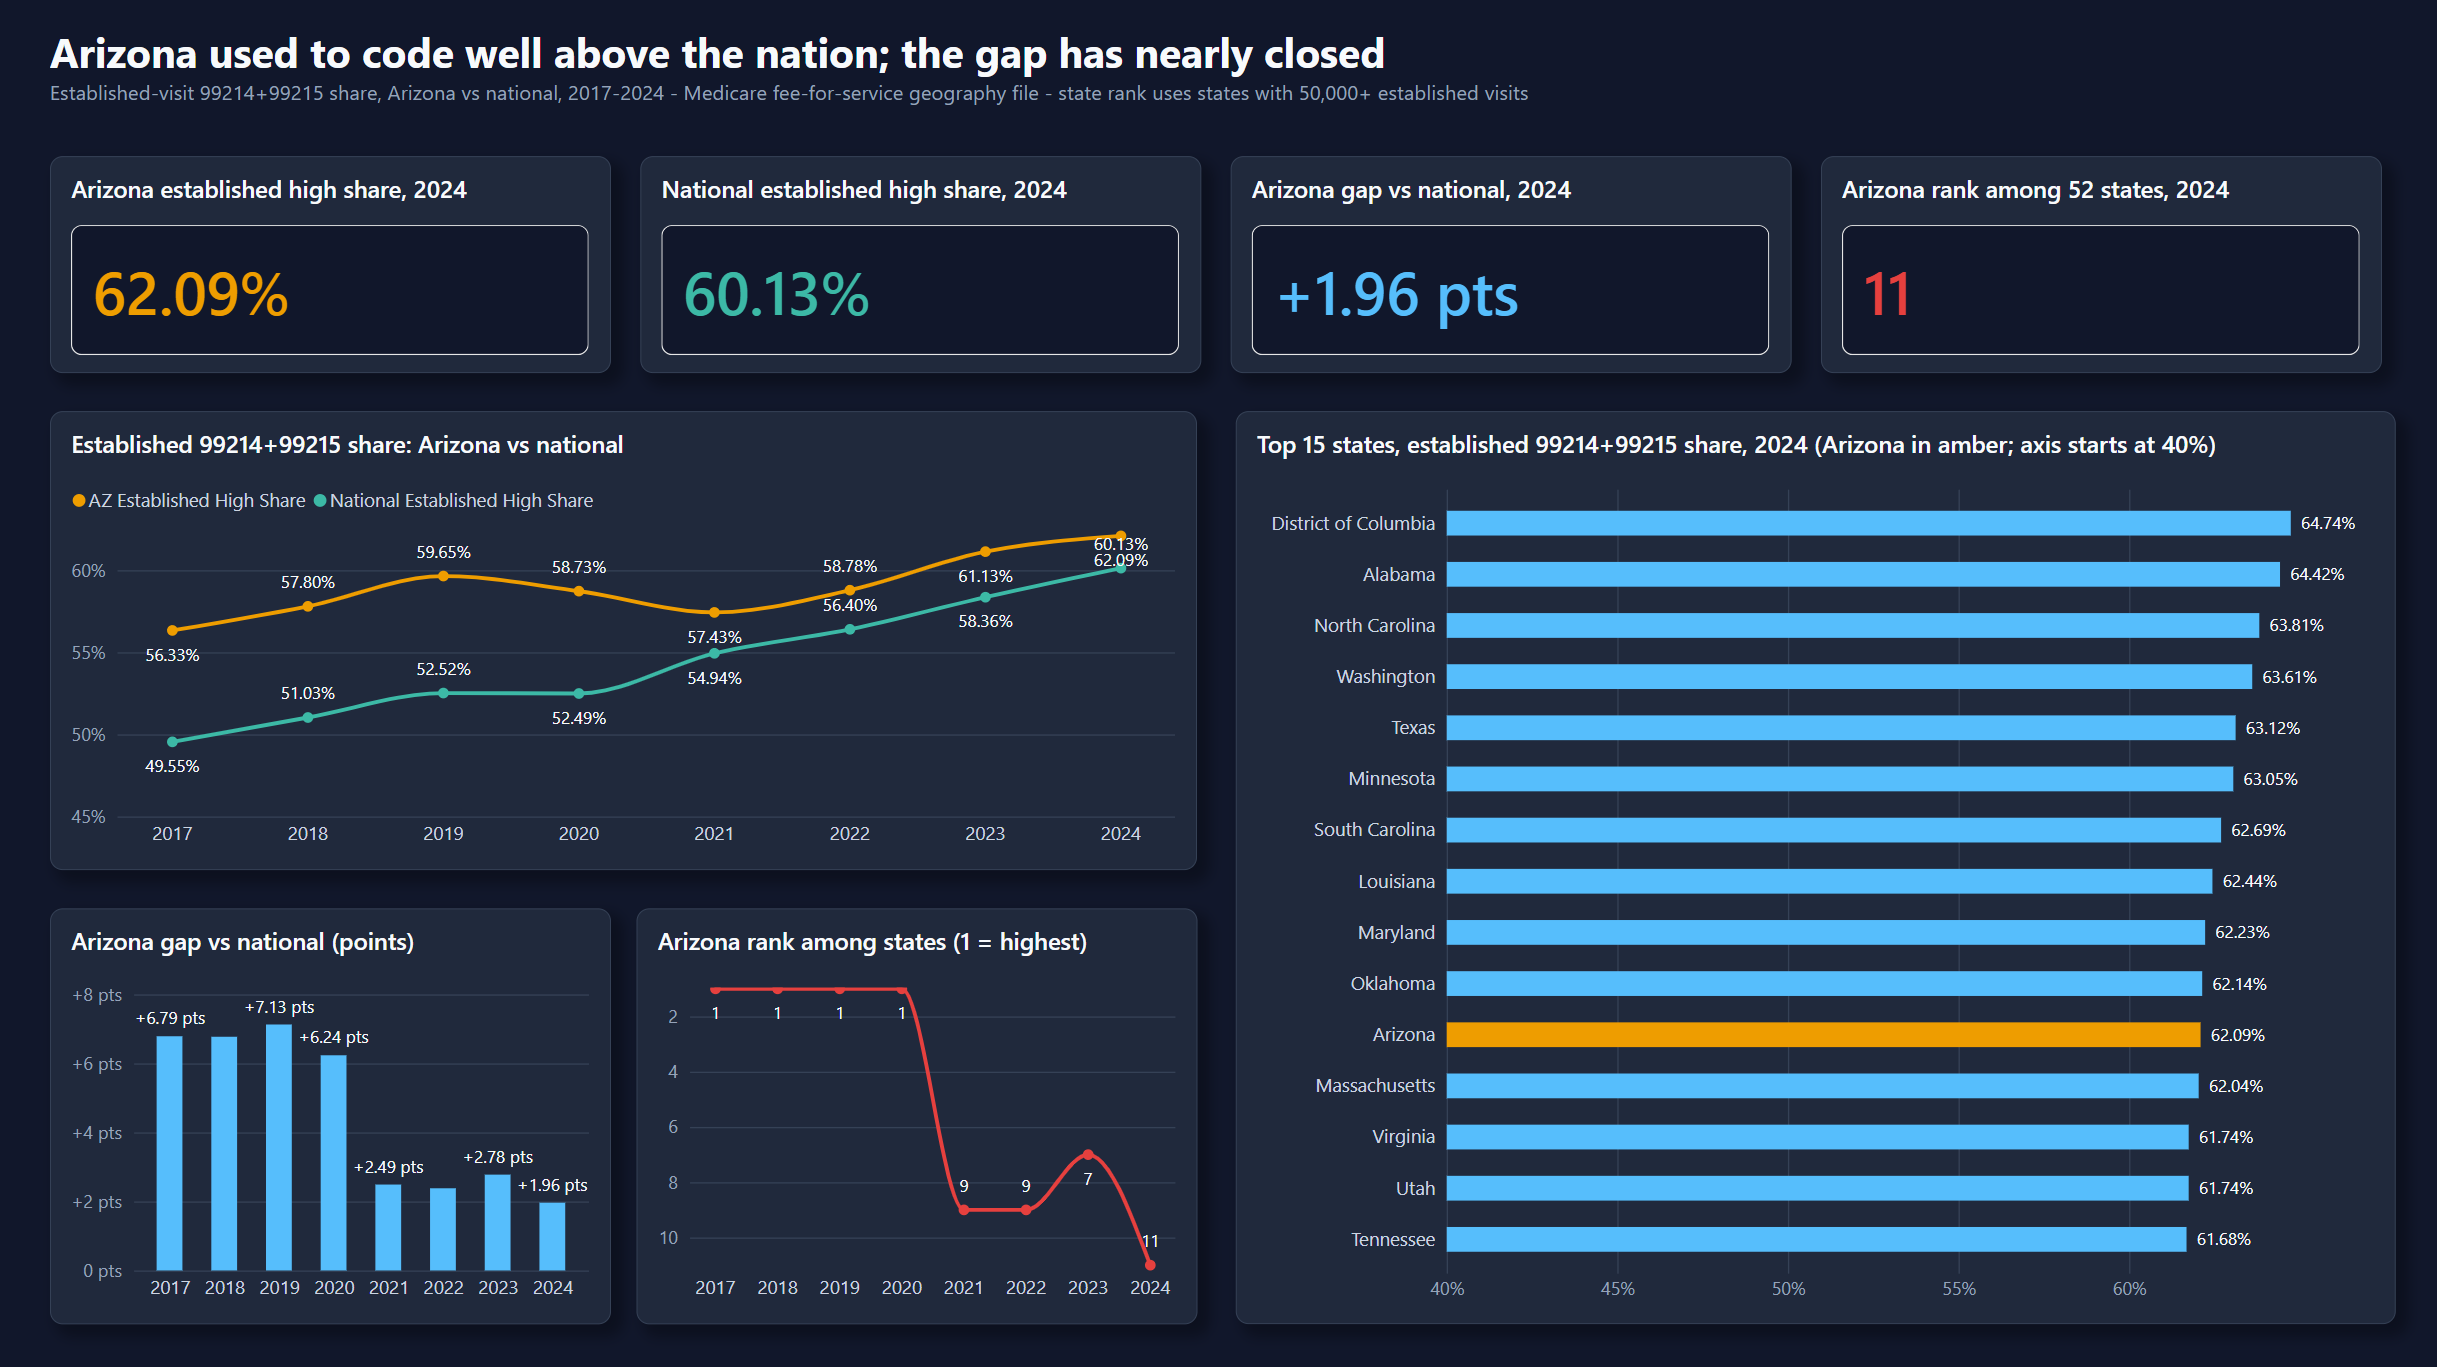

Layout of this report page (visuals, bound fields, positions):
{"tool":"powerbi","page":{"name":"Arizona vs National","canvas":[1920,1080],"ordinal":1},"visuals":[{"type":"textbox","box":[40,20,1340,84],"z":100},{"type":"cardVisual","title":"Arizona established high share, 2024","fields":{"Data":["_Measures.AZ Established High Share"]},"box":[40,124,440,170],"z":200},{"type":"cardVisual","title":"National established high share, 2024","fields":{"Data":["_Measures.National Established High Share"]},"box":[503,124,440,170],"z":200},{"type":"cardVisual","title":"Arizona gap vs national, 2024","fields":{"Data":["_Measures.AZ Gap vs National (pts)"]},"box":[966,124,440,170],"z":200},{"type":"cardVisual","title":"Arizona rank among 52 states, 2024","fields":{"Data":["_Measures.AZ Rank"]},"box":[1429,124,440,170],"z":200},{"type":"lineChart","title":"Established 99214+99215 share: Arizona vs national","fields":{"Category":["DimYear.yr"],"Y":["_Measures.AZ Established High Share","_Measures.National Established High Share"]},"box":[40,324,900,360],"z":300},{"type":"clusteredBarChart","title":"Top 15 states, established 99214+99215 share, 2024 (Arizona in amber; axis starts at 40%)","fields":{"Category":["FactEM.geo_desc"],"Y":["_Measures.State Est High Share"]},"box":[970,324,910,716],"z":300},{"type":"clusteredColumnChart","title":"Arizona gap vs national (points)","fields":{"Category":["DimYear.yr"],"Y":["_Measures.AZ Gap vs National (pts)"]},"box":[40,714,440,326],"z":300},{"type":"lineChart","title":"Arizona rank among states (1 = highest)","fields":{"Category":["DimYear.yr"],"Y":["_Measures.AZ Rank"]},"box":[500,714,440,326],"z":300}]}

Visuals, with their boxes in screenshot pixels (x1, y1, x2, y2), scaled from the page's 1920x1080 canvas onto the 2437x1367 screenshot:
textbox: bbox(51, 25, 1752, 132)
"Arizona established high share, 2024" cardVisual: bbox(51, 157, 609, 372)
"National established high share, 2024" cardVisual: bbox(638, 157, 1197, 372)
"Arizona gap vs national, 2024" cardVisual: bbox(1226, 157, 1785, 372)
"Arizona rank among 52 states, 2024" cardVisual: bbox(1814, 157, 2372, 372)
"Established 99214+99215 share: Arizona vs national" lineChart: bbox(51, 410, 1193, 866)
"Top 15 states, established 99214+99215 share, 2024 (Arizona in amber; axis starts at 40%)" clusteredBarChart: bbox(1231, 410, 2386, 1316)
"Arizona gap vs national (points)" clusteredColumnChart: bbox(51, 904, 609, 1316)
"Arizona rank among states (1 = highest)" lineChart: bbox(635, 904, 1193, 1316)
